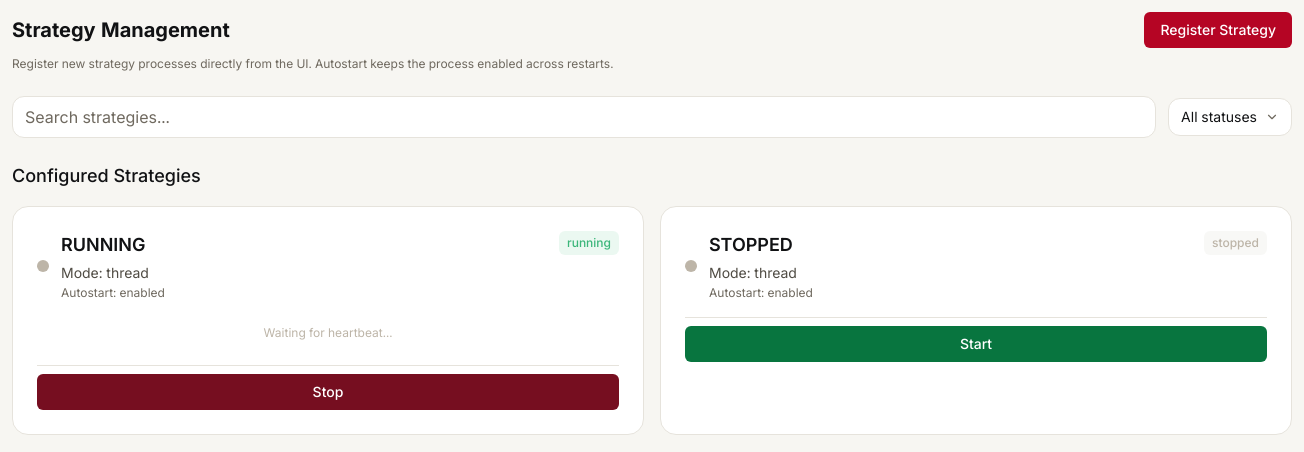
Strategies › filters strategies by stopped status filter
The width and height of the screenshot is (1304, 452).
Expected: the heading "RUNNING" is shown, [61,234,146,255]
Expected: the heading "STOPPED" is shown, [709,234,793,255]
Click the dropdown at (1230, 117), box [1168,98,1292,136]
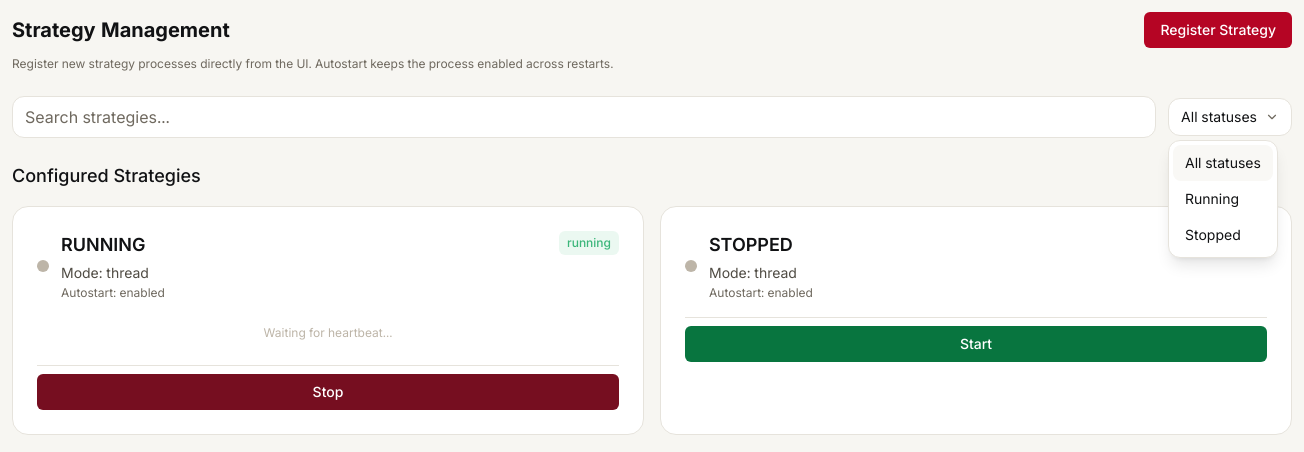
Click the option "Stopped" at (1213, 234), box [1185,226,1241,243]
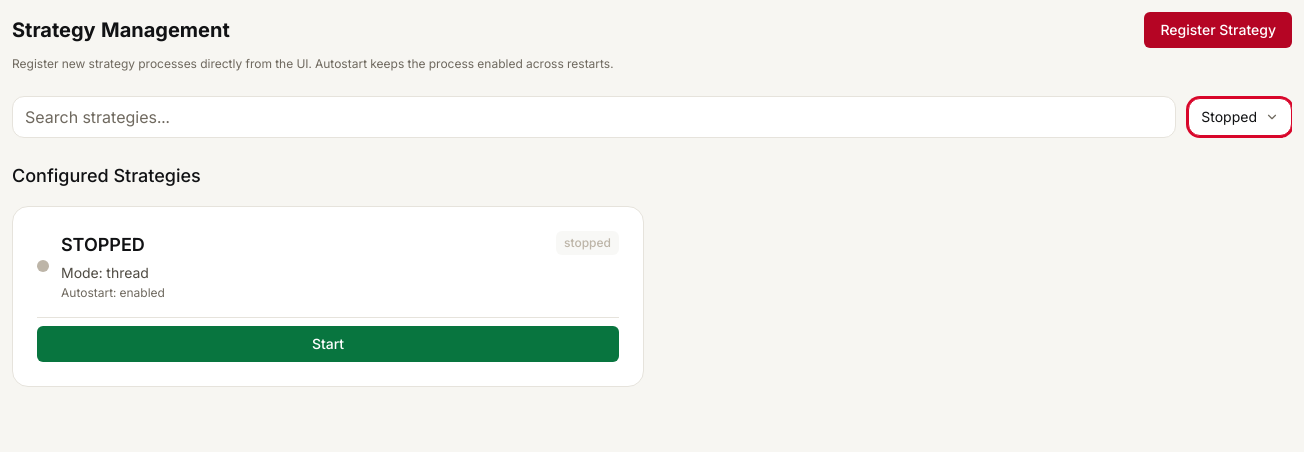
Expected: the heading "STOPPED" is shown, [61,234,145,255]
Expected: the heading "RUNNING" is gone
